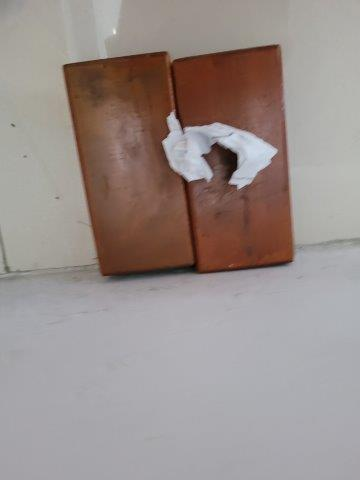kertas: (160, 110, 276, 191)
